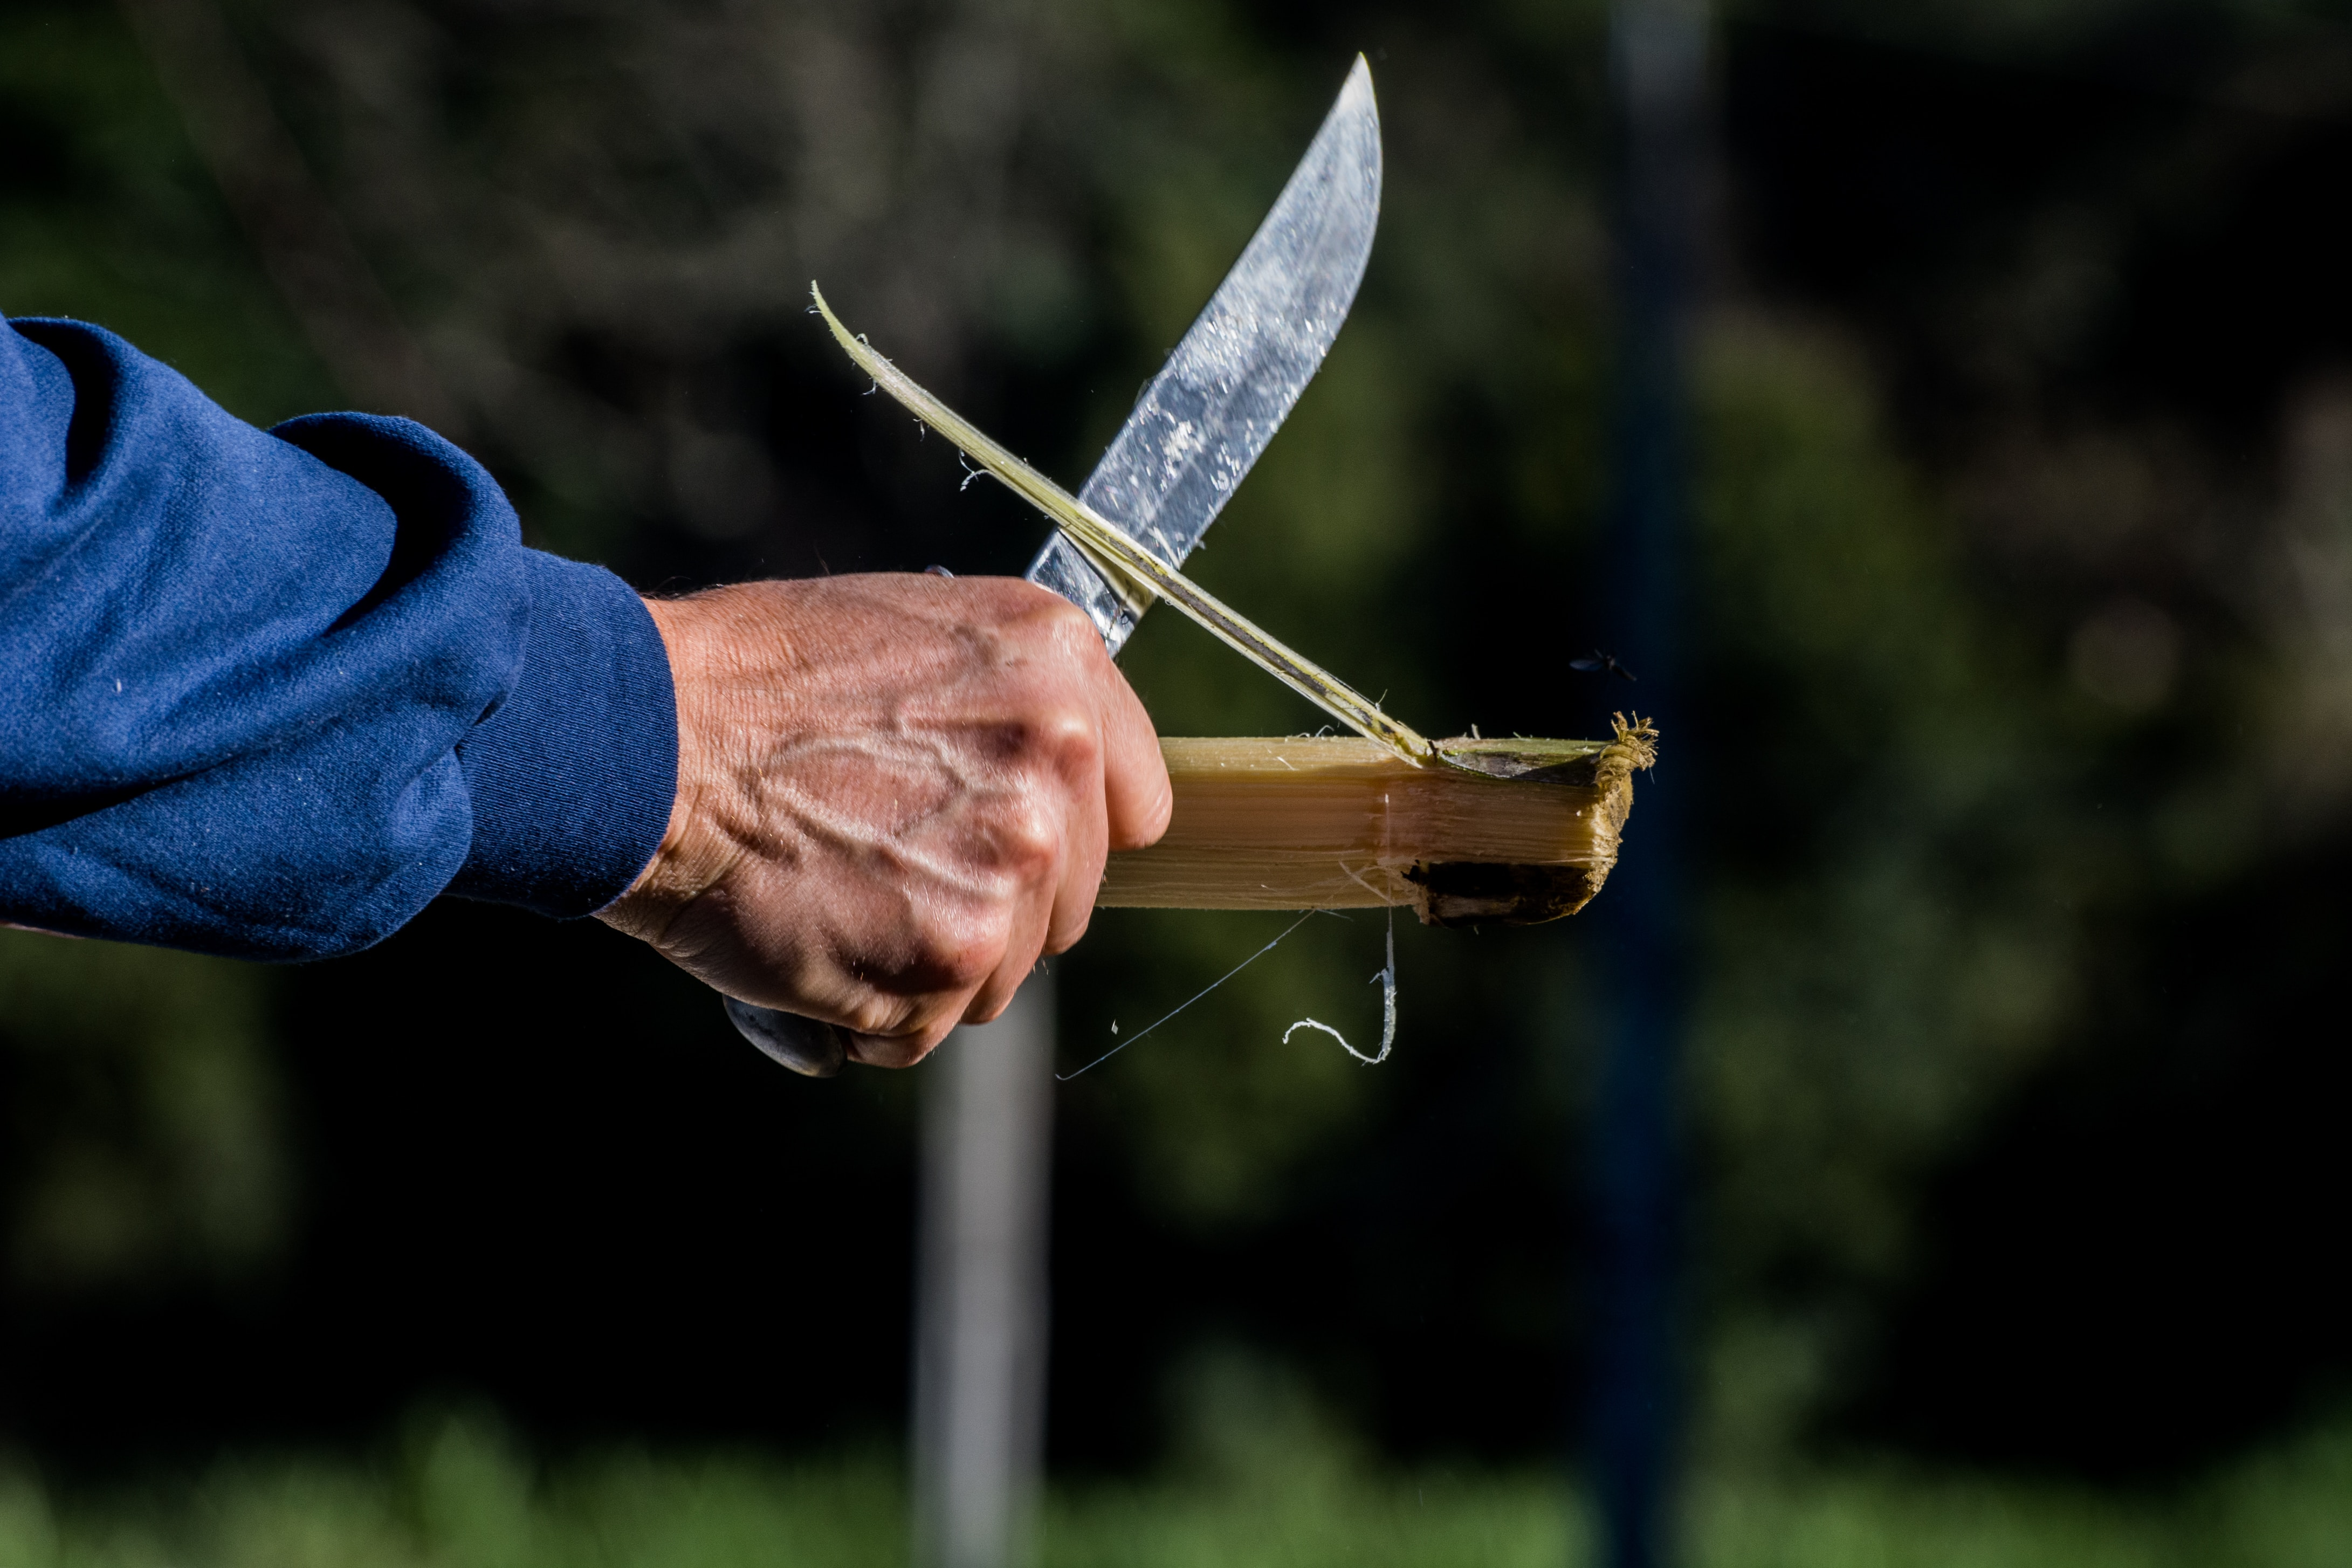knife: (712, 38, 1438, 1183)
